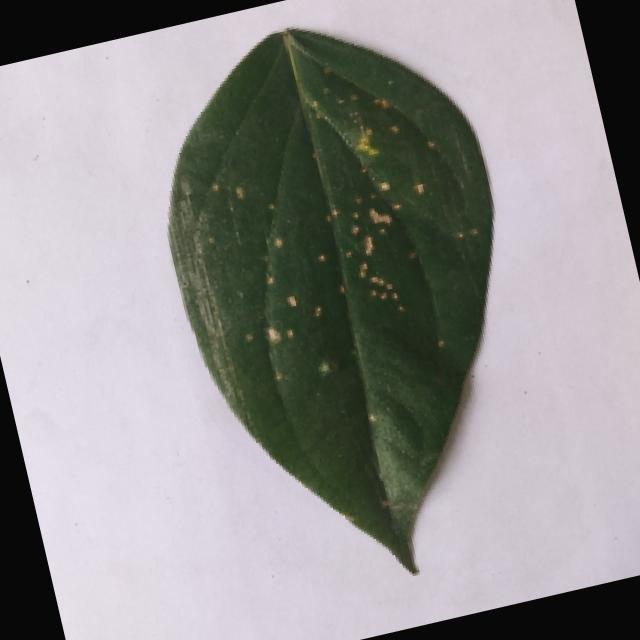pollu-disease: (95, 0, 599, 617)
